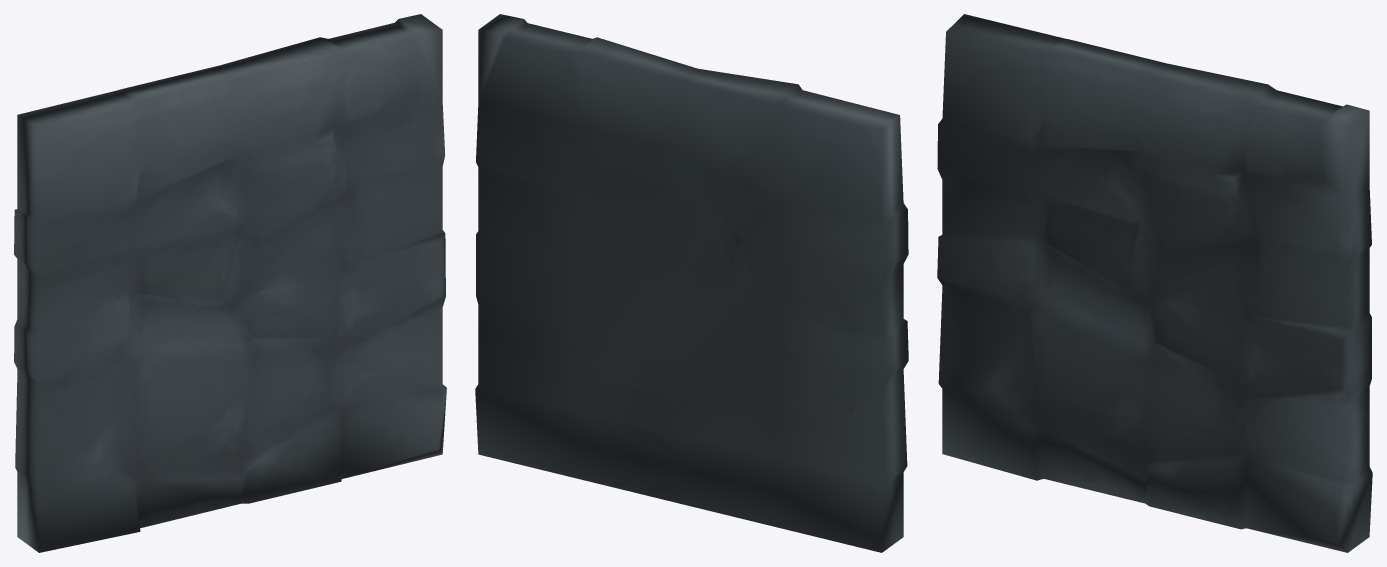
The model's file is pared2.obj.
3 renders of one model, left to right at view 1: azimuth 30°, elevation 25°; view 2: azimuth 150°, elevation 25°; view 3: azimuth 330°, elevation 25°, orthographic.
Parts seen in each view (by area): view 1: muro_1 muro_1; view 2: muro_1 muro_1; view 3: muro_1 muro_1.
Boxes of the visible parts, x1,y1,x2,y2 form: muro_1 muro_1: (14, 14, 446, 552); muro_1 muro_1: (475, 14, 908, 552); muro_1 muro_1: (937, 14, 1372, 552).
Size of the model in its own units: 4.09 by 4.06 by 0.4879.
1 material, 1 textured.
